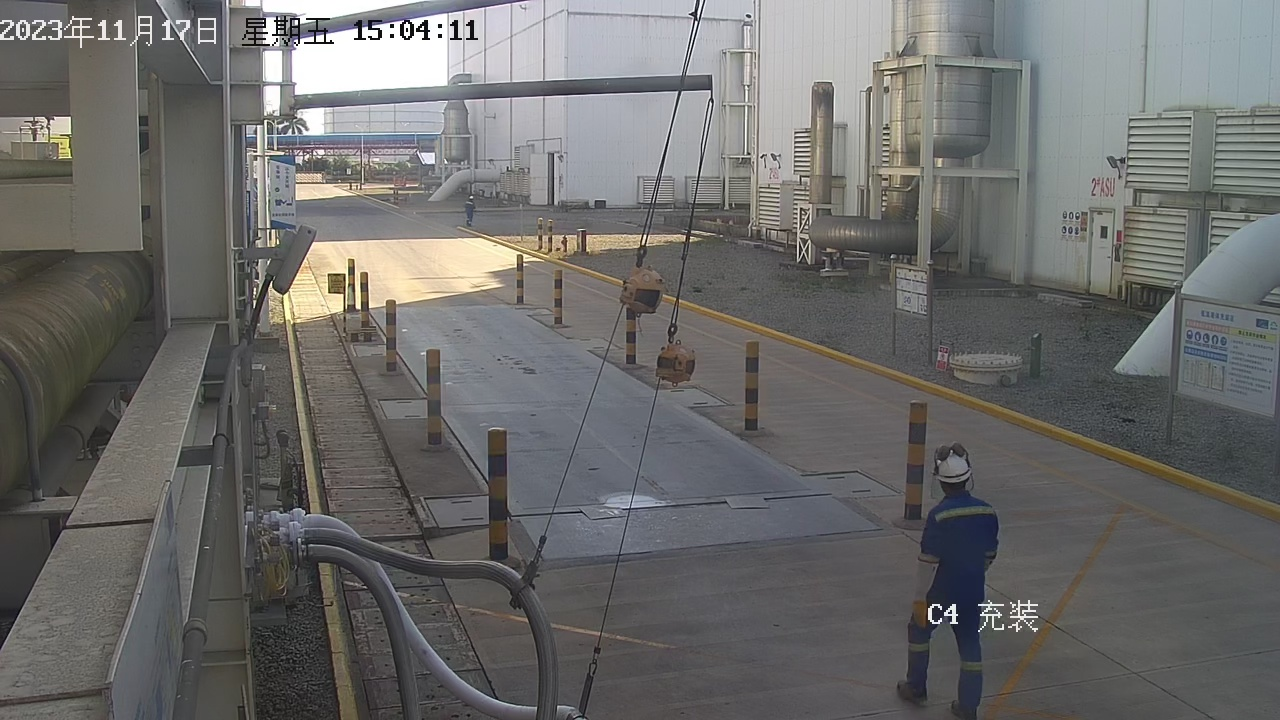Head_with_Helmet: (901, 432, 1001, 502), (466, 192, 477, 201)
Uniform: (884, 482, 1024, 719), (461, 199, 480, 227)
